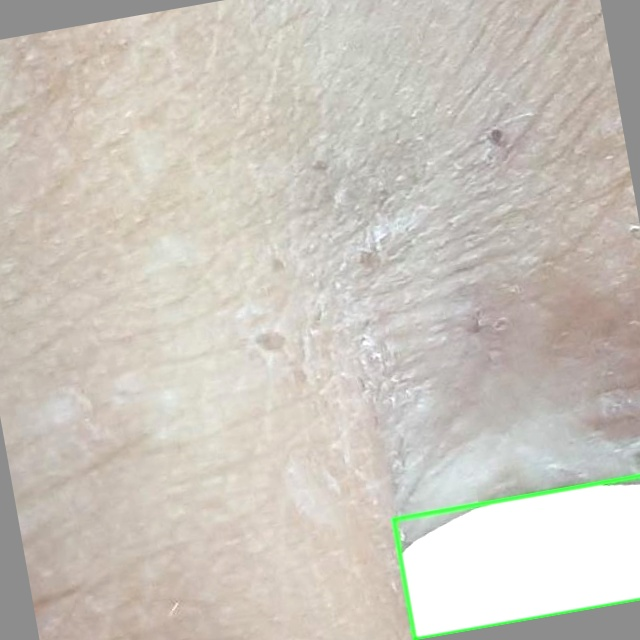Scabies: (393, 475, 639, 639)
